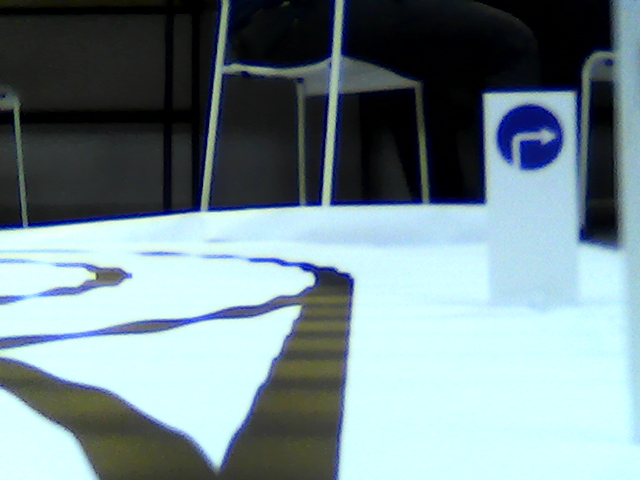Right: (496, 106, 563, 168)
